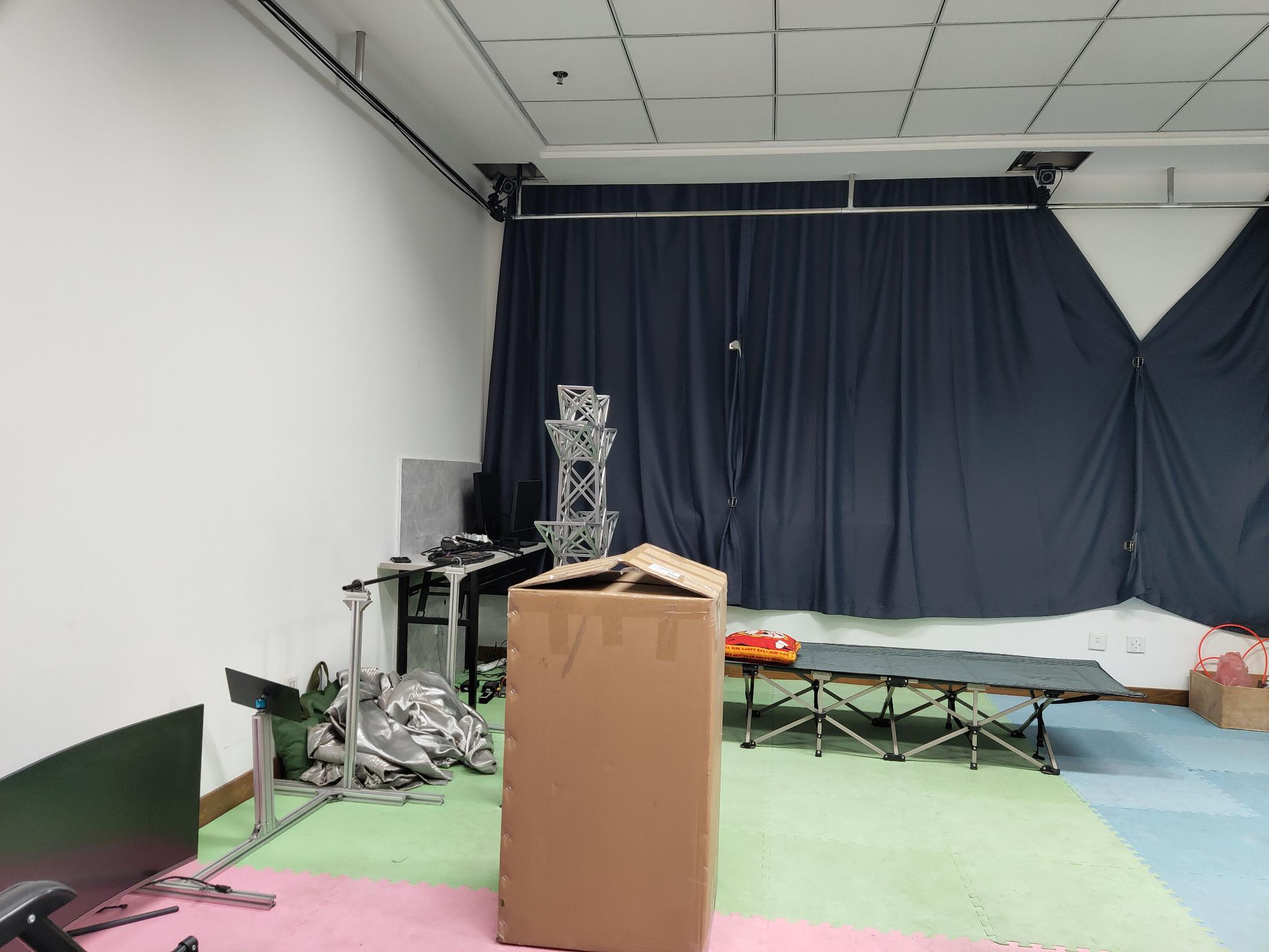tower: (531, 382, 622, 562)
